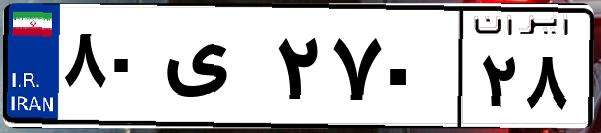0: (385, 28, 445, 110), (110, 28, 158, 98)
2: (270, 28, 330, 110), (475, 38, 525, 113)
7: (330, 28, 385, 110)
8: (57, 26, 110, 100), (525, 38, 570, 115)
ی: (158, 20, 270, 120)
